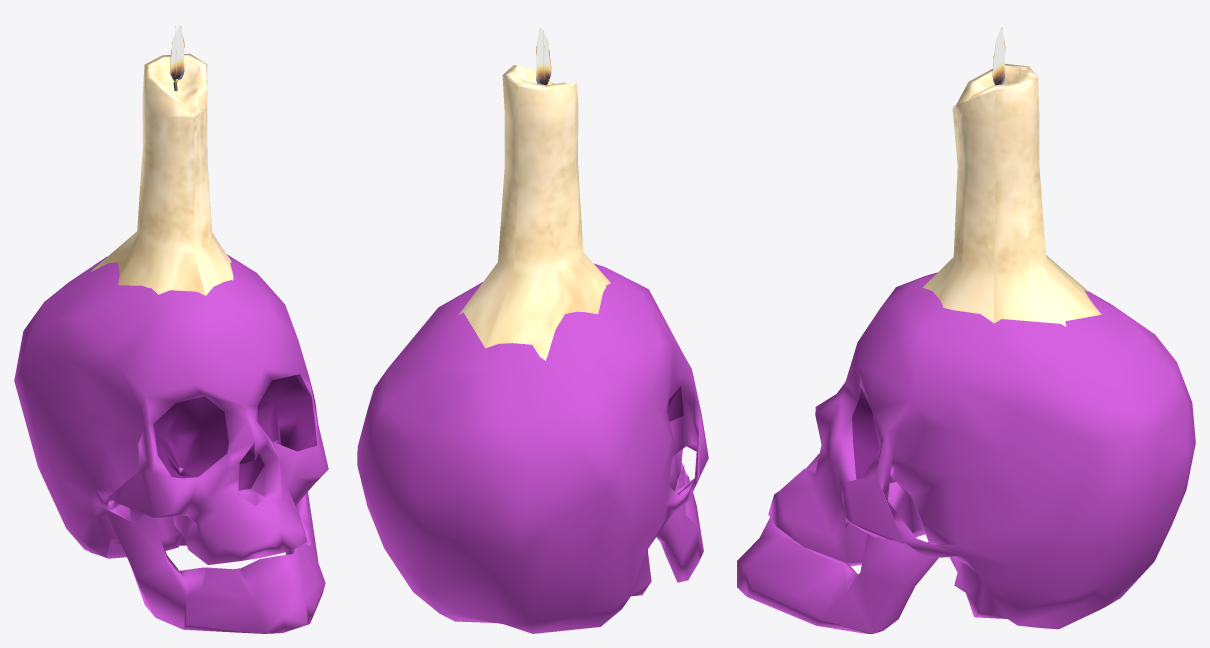
Rendered from CandleSkullShapeA.008.glb.
3 views of the same model, side by side, from view 1: azimuth 30°, elevation 25°; view 2: azimuth 150°, elevation 25°; view 3: azimuth 270°, elevation 25° (orthographic). The views are drawn at different scales.
Parts seen in each view (by area): view 1: CandleSkullShapeA.008; view 2: CandleSkullShapeA.008; view 3: CandleSkullShapeA.008.
Part boxes in pixels (<box>): CandleSkullShapeA.008: <box>14,25,328,633</box>; CandleSkullShapeA.008: <box>357,28,708,633</box>; CandleSkullShapeA.008: <box>737,27,1195,633</box>.
Size of the model in its own units: 0.2005 by 0.4386 by 0.3132.
Materials: 2 (2 with a texture image).
